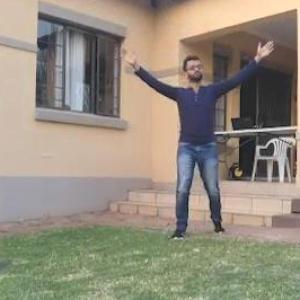takeoff: (99, 34, 264, 244)
